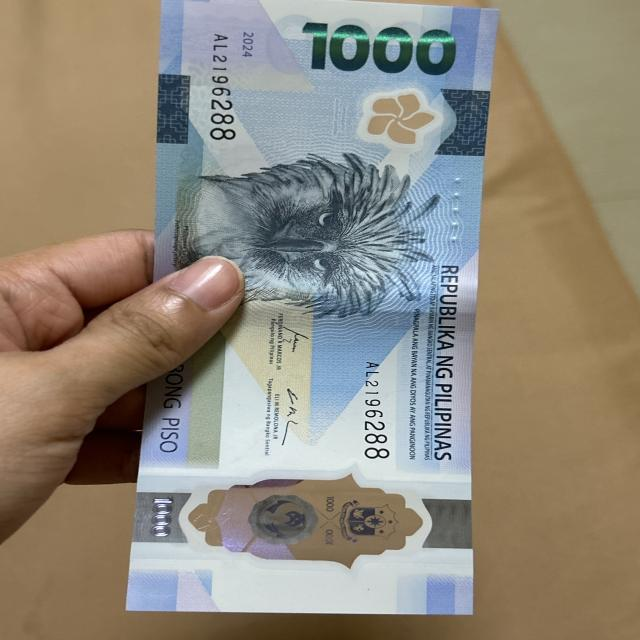clear_window: (173, 472, 432, 558)
eagle: (197, 172, 420, 316)
sampaguita: (360, 94, 442, 147)
